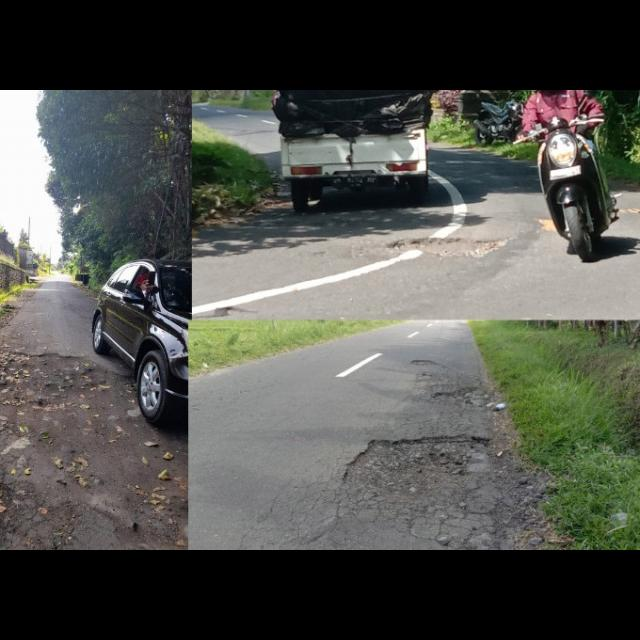lubang_kecil: (334, 425, 495, 499), (6, 341, 89, 416), (372, 222, 509, 267), (421, 378, 488, 415), (407, 352, 442, 375)
retak_kulit_buaya: (299, 489, 477, 539)
